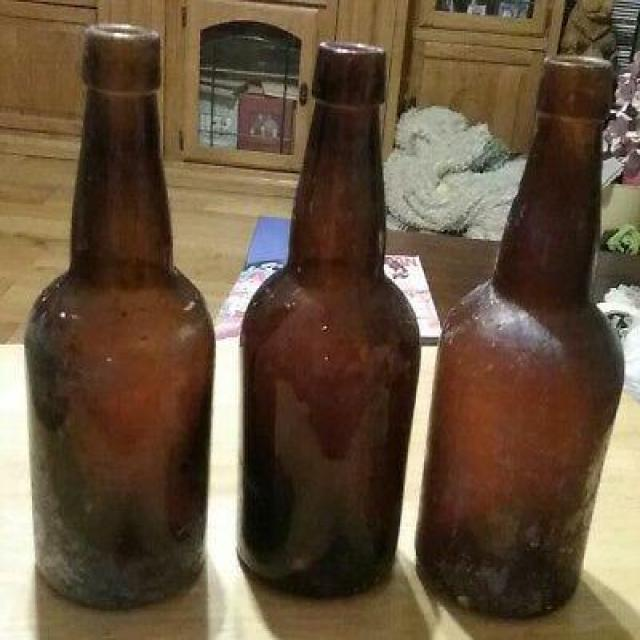non-organic waste: (22, 13, 216, 614)
